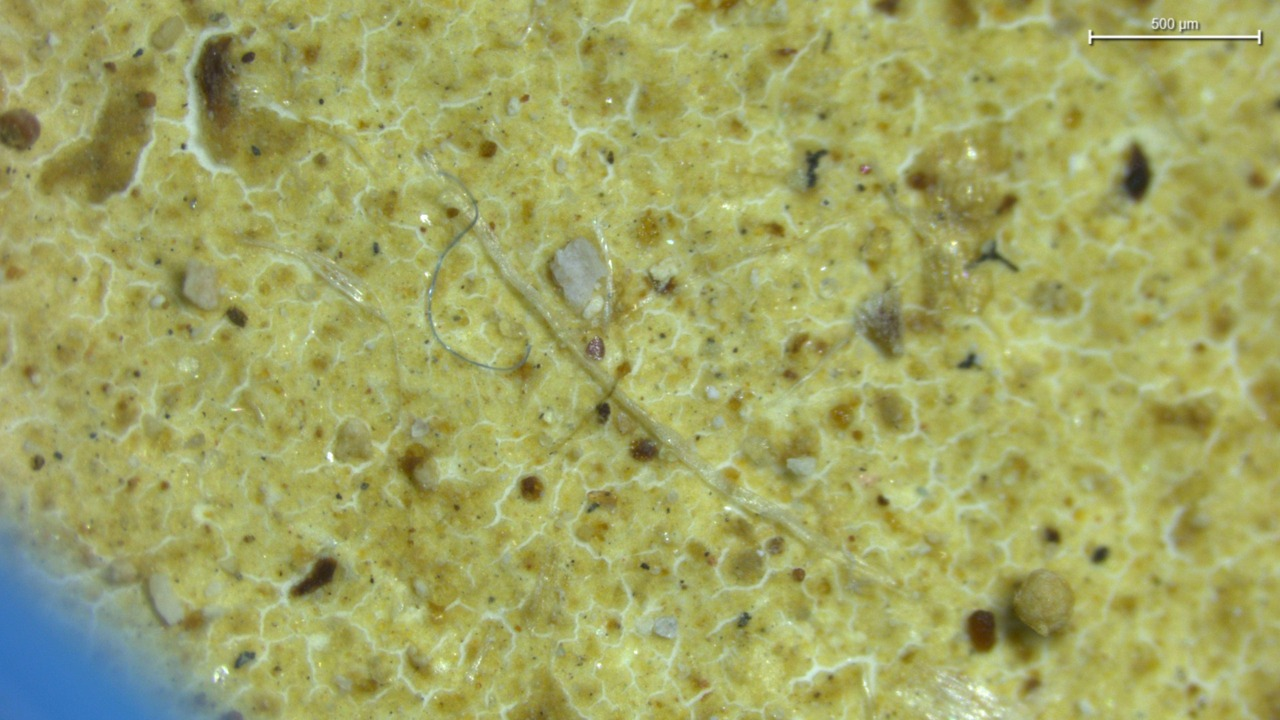microplastic_fragment: (550, 237, 607, 310), (1013, 569, 1074, 636), (182, 259, 220, 310)
